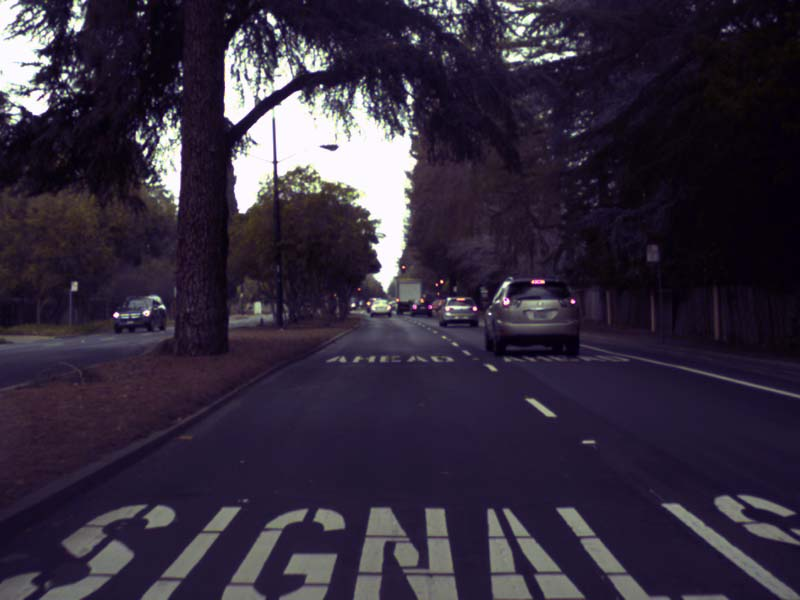Red: (357, 285, 361, 296), (401, 264, 405, 272), (439, 278, 443, 285), (434, 282, 438, 288)
